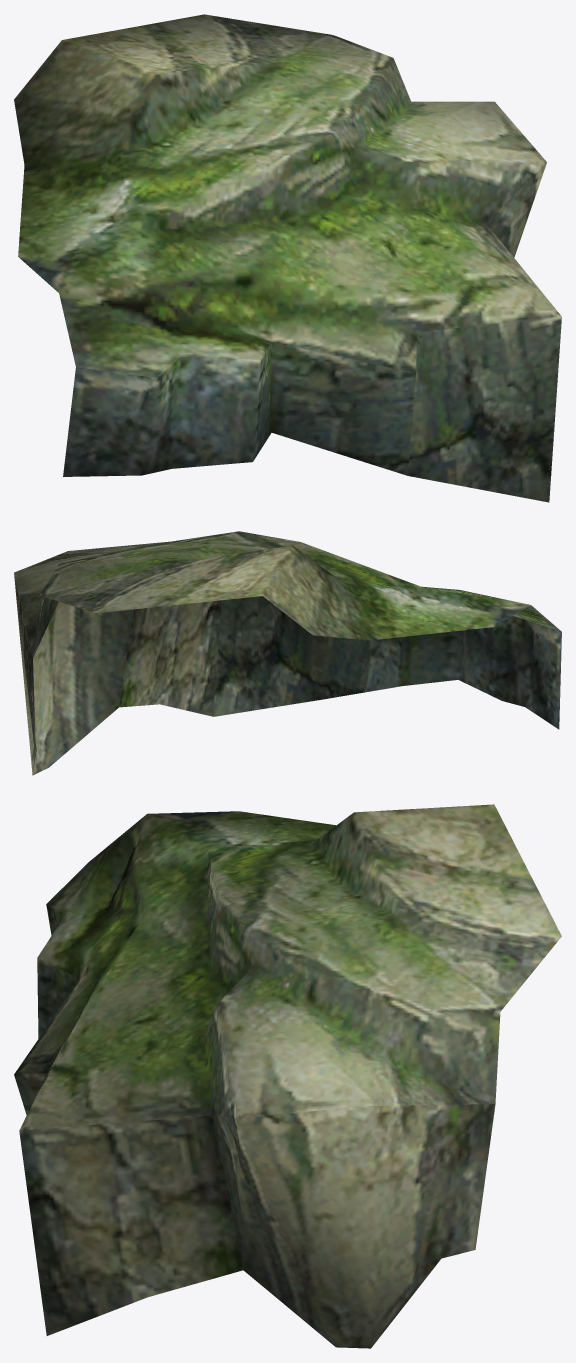
File: S_Rock_Green047_1060_12.fbx
3 renders of one model, top to bottom at view 1: azimuth 30°, elevation 25°; view 2: azimuth 150°, elevation 25°; view 3: azimuth 270°, elevation 25°, orthographic. The views are drawn at different scales.
Visible parts, largest first — view 1: S_Rock_Green047_1060_12; view 2: S_Rock_Green047_1060_12; view 3: S_Rock_Green047_1060_12.
Part boxes in pixels (x1=…): S_Rock_Green047_1060_12: x1=14, y1=14, x2=561, y2=502; S_Rock_Green047_1060_12: x1=14, y1=531, x2=561, y2=775; S_Rock_Green047_1060_12: x1=14, y1=804, x2=561, y2=1348.
Size of the model in its own units: 971 by 635 by 792.
Materials: 1 (1 with a texture image).
